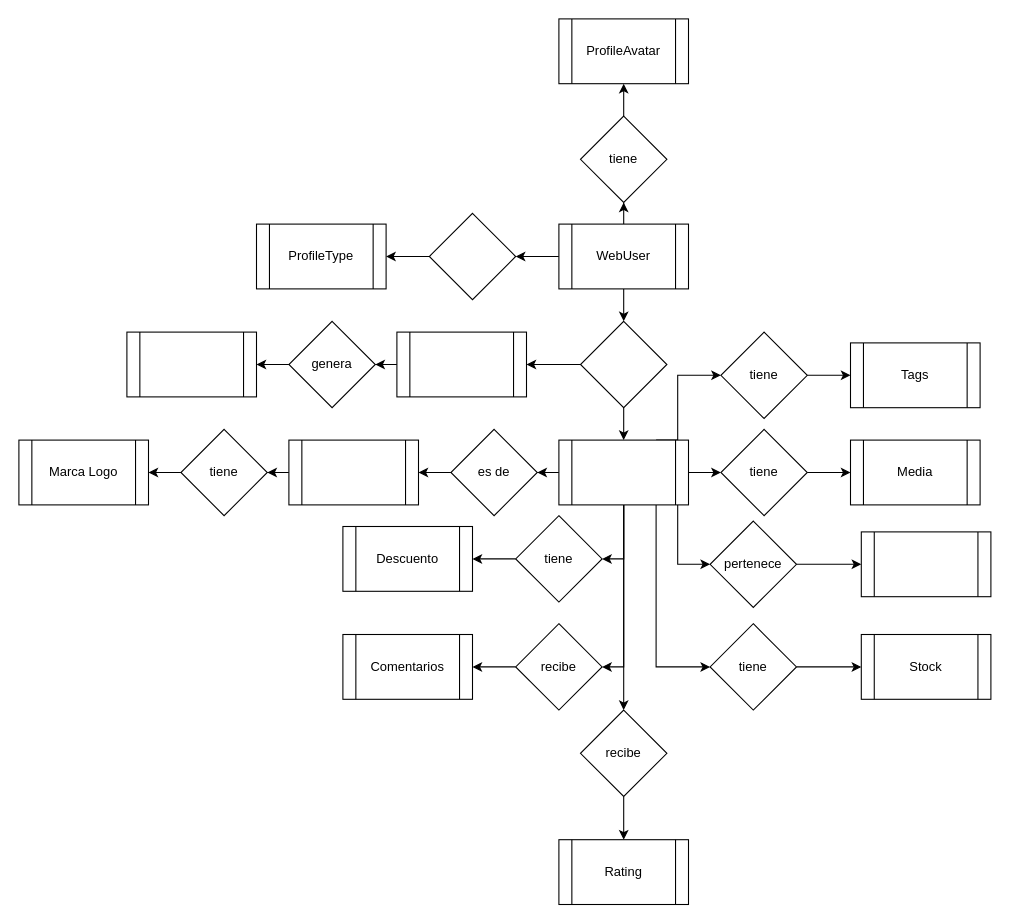
Image size: 1010x923. Some labels were removed from this diagram. Each missing label, with the centre of its shape:
"agrega" belongs at pixel 623 364.
"Articulo" belongs at pixel 623 472.
"Carrito" belongs at pixel 461 364.
"Categoria" belongs at pixel 925 564.
"Marca" belongs at pixel 353 472.
"pertenece a" belongs at pixel 472 256.
"Purchase Details" belongs at pixel 191 364.
